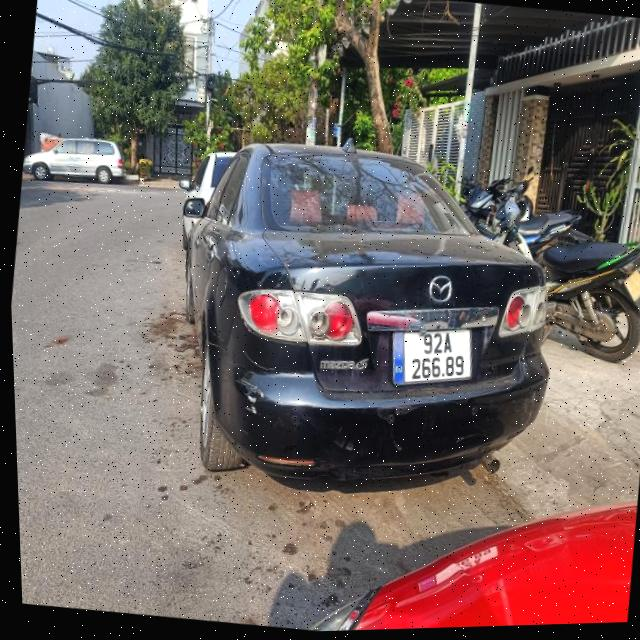car: (140, 112, 583, 527), (16, 71, 144, 208), (23, 125, 138, 197)
plate: (386, 317, 484, 394)
